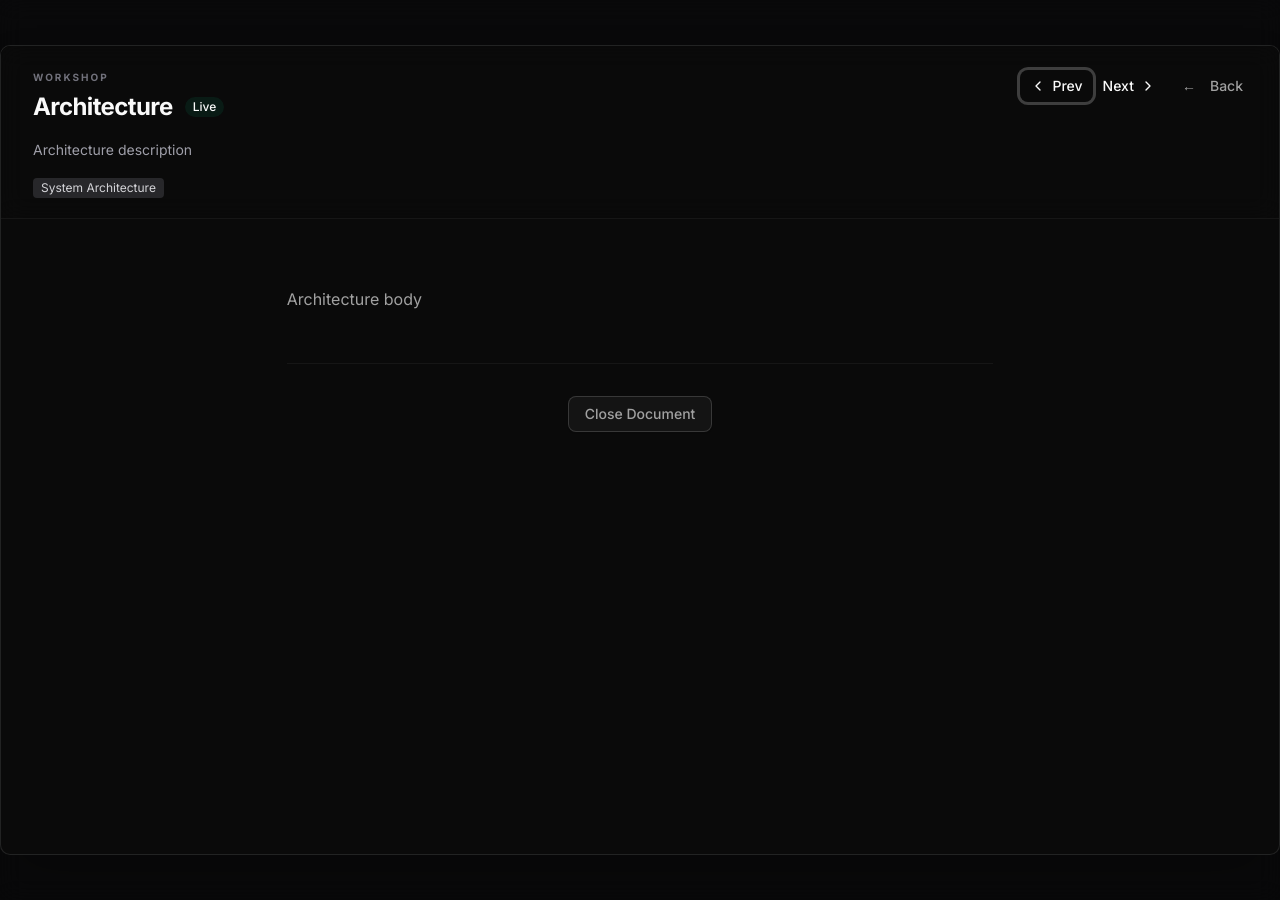
Test: MarkdownDocumentModal blueprint Prev/Next › stays on the failed slot, keeps Prev/Next usable, and retries the same target
Click the button "Next": (1129, 86) top-left (1093, 70), bottom-right (1166, 102)
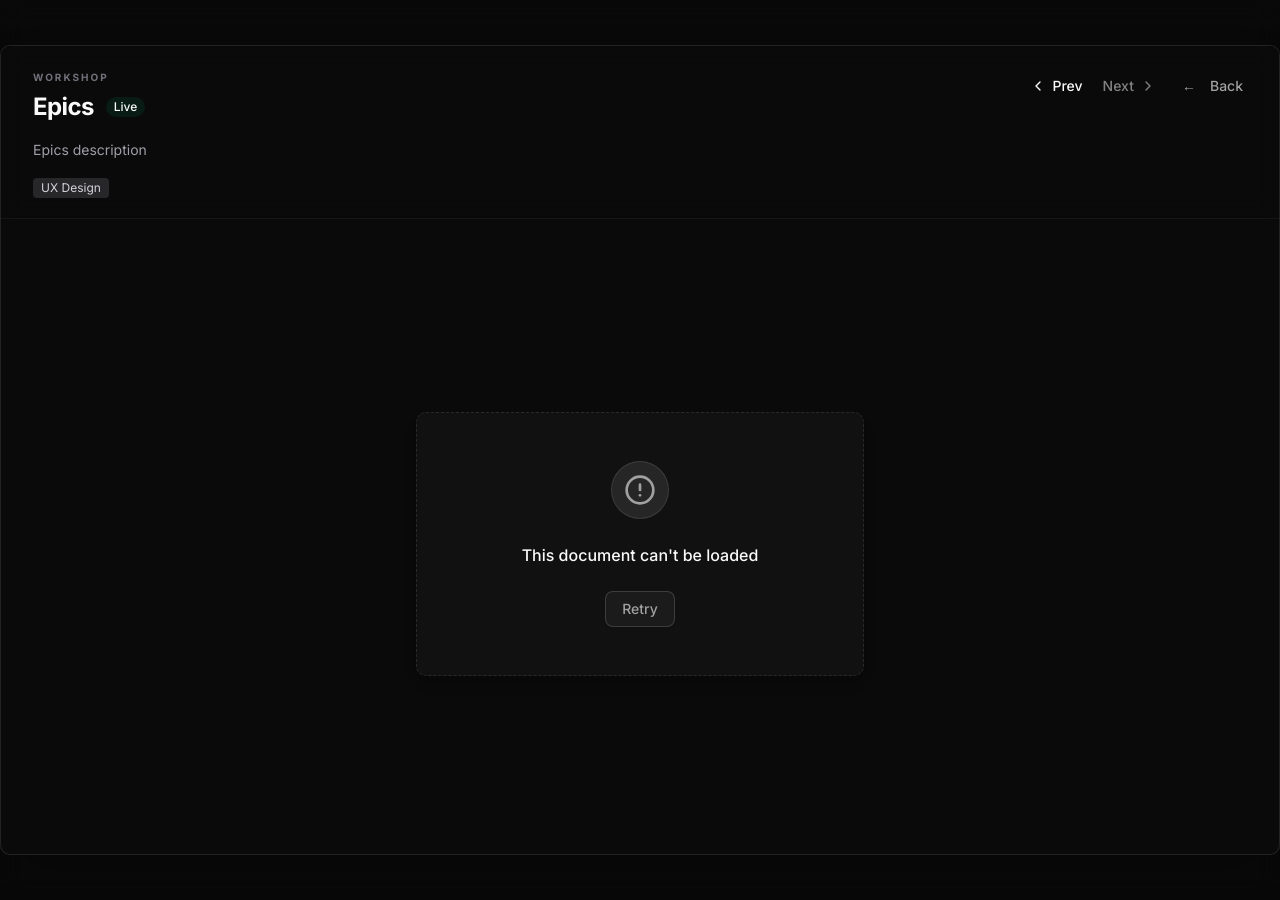
Check: the message "This document can't be loaded Retry" is shown, box top-left (416, 412), bottom-right (864, 676)
Check: the text "This document can't be loaded" is shown, box top-left (522, 545), bottom-right (758, 565)
Check: the heading "Epics" is shown, box top-left (33, 91), bottom-right (94, 123)
Click the button "Retry": (640, 609) top-left (605, 591), bottom-right (675, 627)
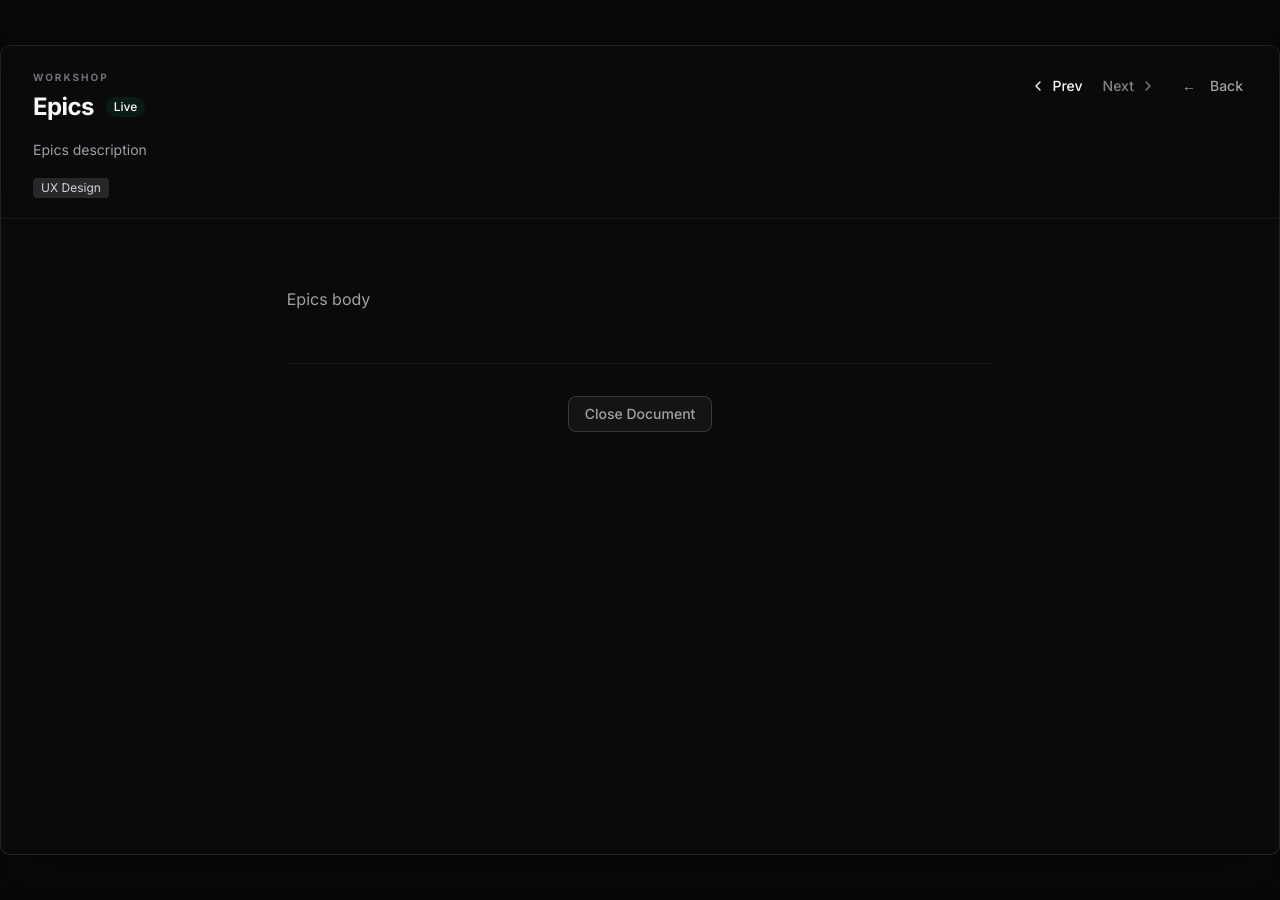
Check: the text "Epics body" is shown, box top-left (287, 289), bottom-right (370, 309)
Check: the message with test id "document-load-error" is gone
